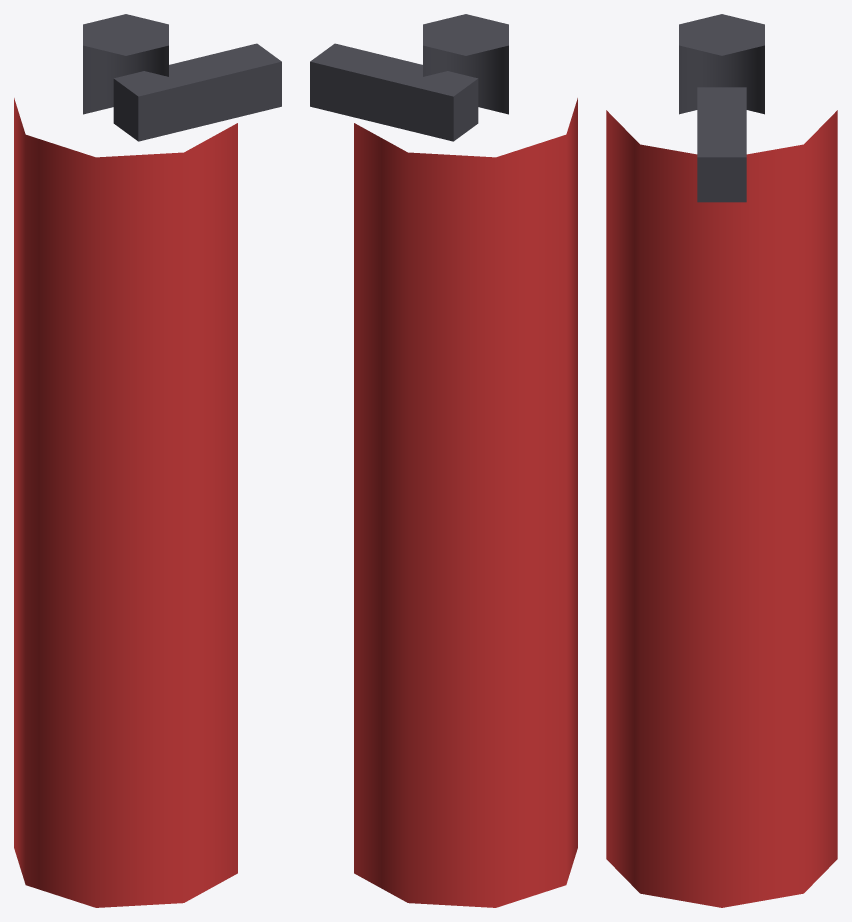
Rendered from fire_extinguisher.glb.
3 renders of one model, left to right at view 1: azimuth 30°, elevation 25°; view 2: azimuth 150°, elevation 25°; view 3: azimuth 270°, elevation 25°, orthographic.
Visible parts, largest first — view 1: fire_extinguisher; view 2: fire_extinguisher; view 3: fire_extinguisher.
Part boxes in pixels (x1,y1,x2,y2): fire_extinguisher: (14, 14, 281, 907); fire_extinguisher: (310, 14, 577, 907); fire_extinguisher: (606, 14, 837, 907).
Bounding box in the file's own units: 0.17 × 0.55 × 0.14.
